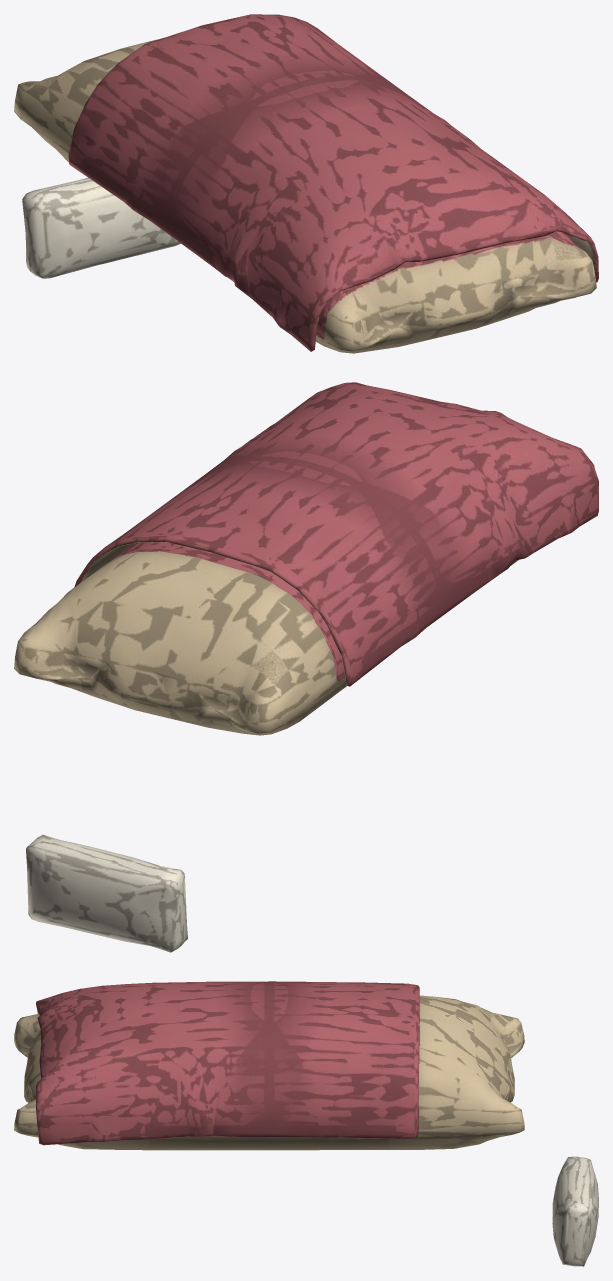
Rendered from futon_rose.glb.
The picture shows the model from 3 angles, top to bottom: view 1: azimuth 30°, elevation 25°; view 2: azimuth 150°, elevation 25°; view 3: azimuth 270°, elevation 25°; orthographic projection. The views are drawn at different scales.
Visible parts, largest first — view 1: prop_futon_rose_felt; view 2: prop_futon_rose_felt; view 3: prop_futon_rose_felt.
Part boxes in pixels (x1,y1,x2,y2): prop_futon_rose_felt: (14, 14, 598, 353); prop_futon_rose_felt: (14, 382, 598, 952); prop_futon_rose_felt: (14, 981, 598, 1266).
Size of the model in its own units: 2 by 2.11 by 4.52.
Materials: 1 (1 with a texture image).
